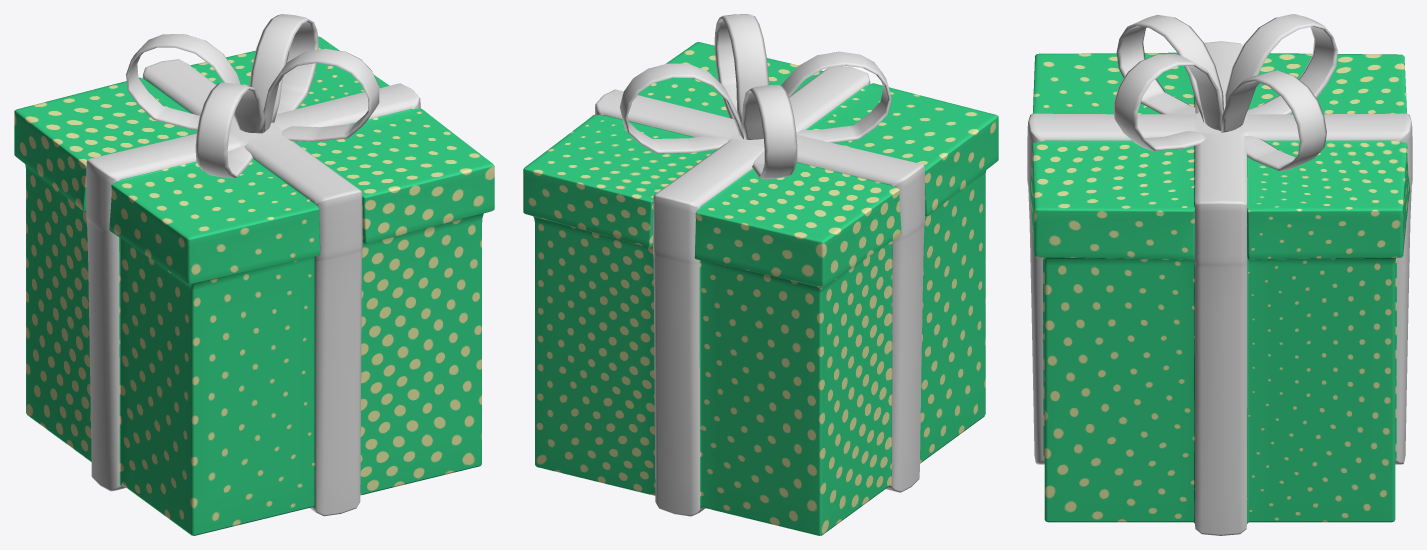
File: giftboxFBX.fbx
3 views of the same model, side by side, from view 1: azimuth 30°, elevation 25°; view 2: azimuth 150°, elevation 25°; view 3: azimuth 270°, elevation 25° (orthographic). The views are drawn at different scales.
Parts seen in each view (by area): view 1: gift; view 2: gift; view 3: gift.
Boxes of the visible parts, <box> form: gift: <box>14,14,494,535</box>; gift: <box>523,14,998,535</box>; gift: <box>1027,14,1412,535</box>.
Size of the model in its own units: 1.1 by 1.33 by 1.1.
2 materials, 1 textured.
